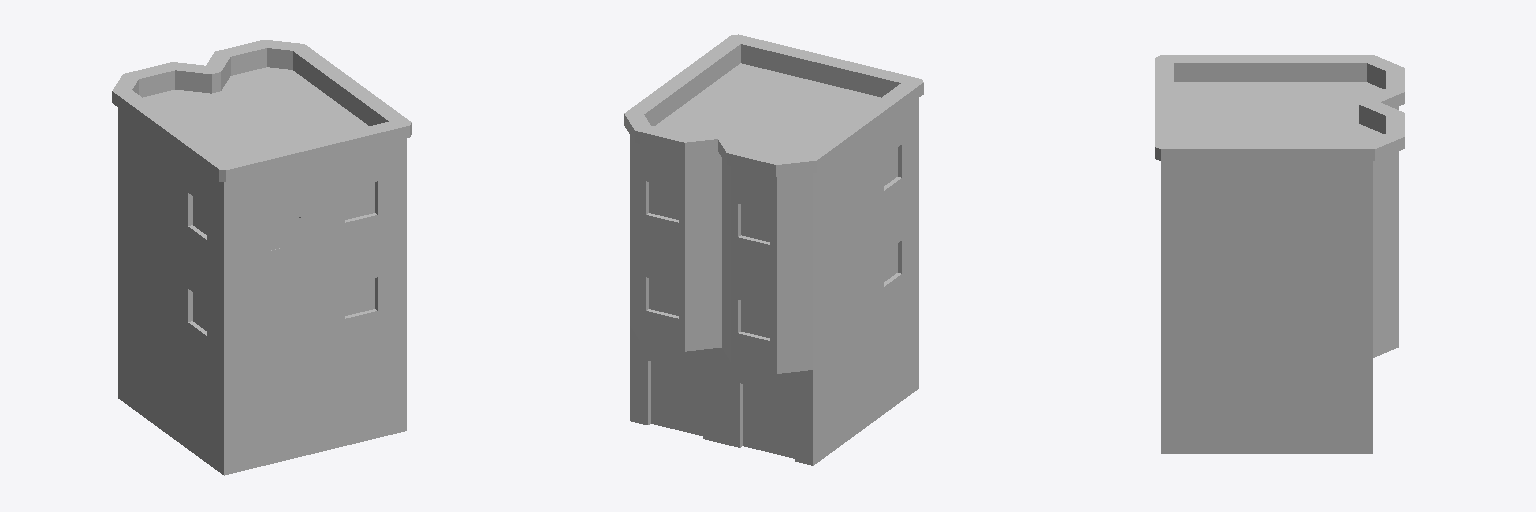
The model's file is variant_15.obj.
The picture shows the model from 3 angles: view 1: azimuth 30°, elevation 25°; view 2: azimuth 150°, elevation 25°; view 3: azimuth 270°, elevation 25°; orthographic projection.
Visible parts, largest first — view 1: Building_copy, Window_copy; view 2: Building_copy; view 3: Building_copy.
Boxes of the visible parts, <box> form: Building_copy: <box>112,40,411,475</box>; Window_copy: <box>262,201,307,259</box>; Building_copy: <box>624,34,923,465</box>; Building_copy: <box>1155,55,1404,453</box>.
Size of the model in its own units: 0.84 by 1.28 by 0.94.